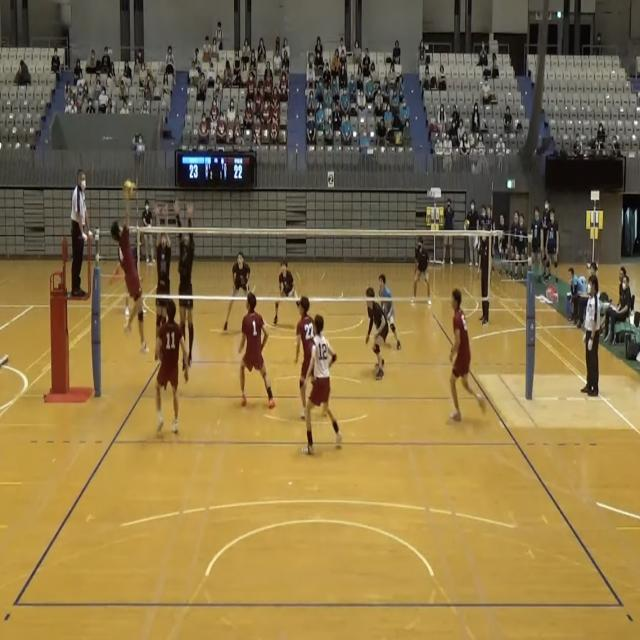spike: (110, 176, 151, 360)
